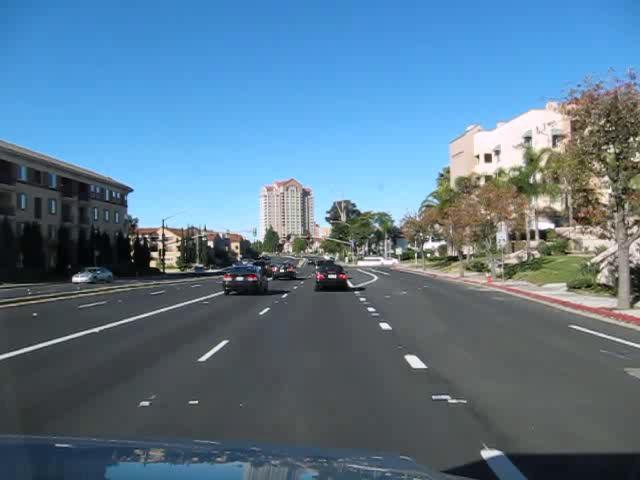speedLimit25: (495, 230, 507, 245)
